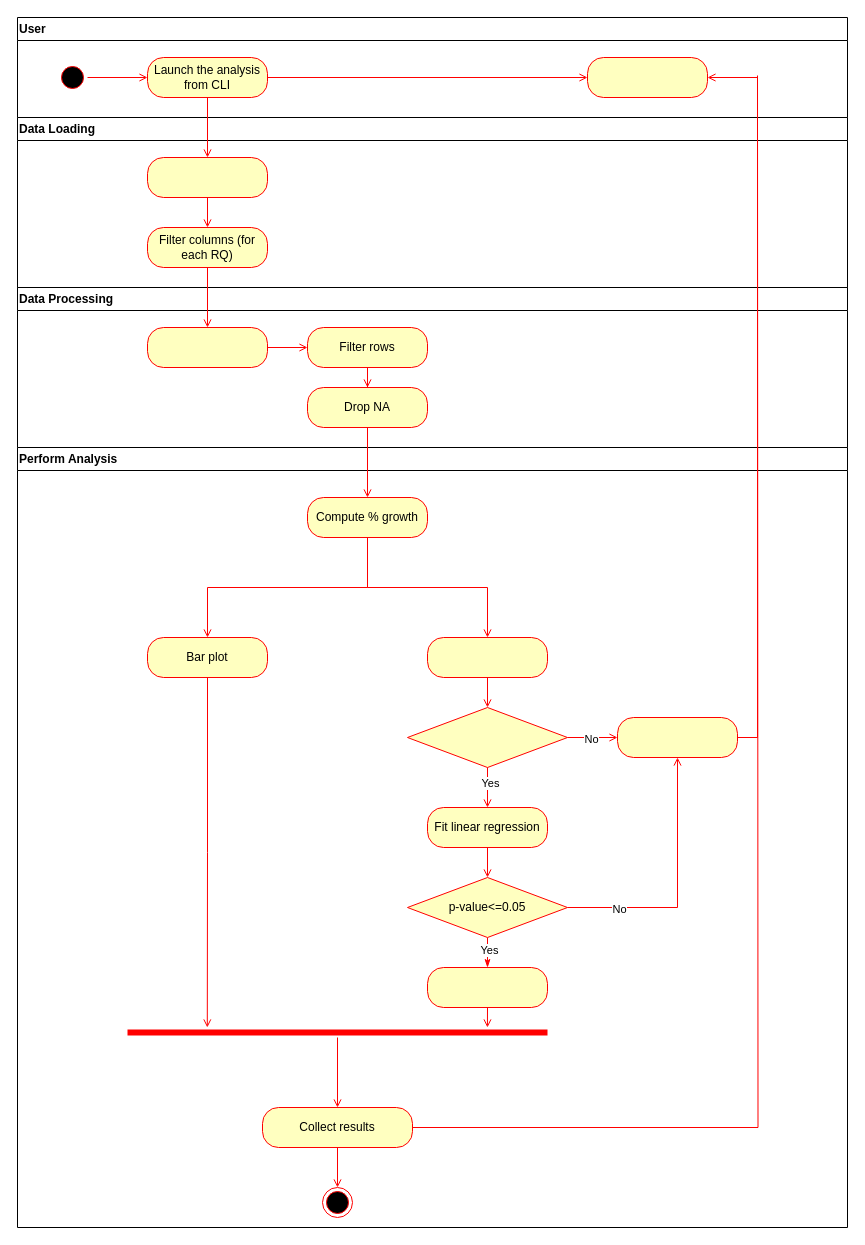
Some shapes in this 865 by 1245 pixel diagram are drawn without their labels. Each missing label, with the centre of its shape:
Convert dates to datetime: point (207, 347)
Line plot: point (487, 987)
Load data: point (207, 177)
Log results (hp test/model): point (677, 737)
Pearson test for correlation: point (487, 657)
Visualize results: point (647, 77)
|Correlation|>=0.70 and p-value<=0.05: point (487, 737)
